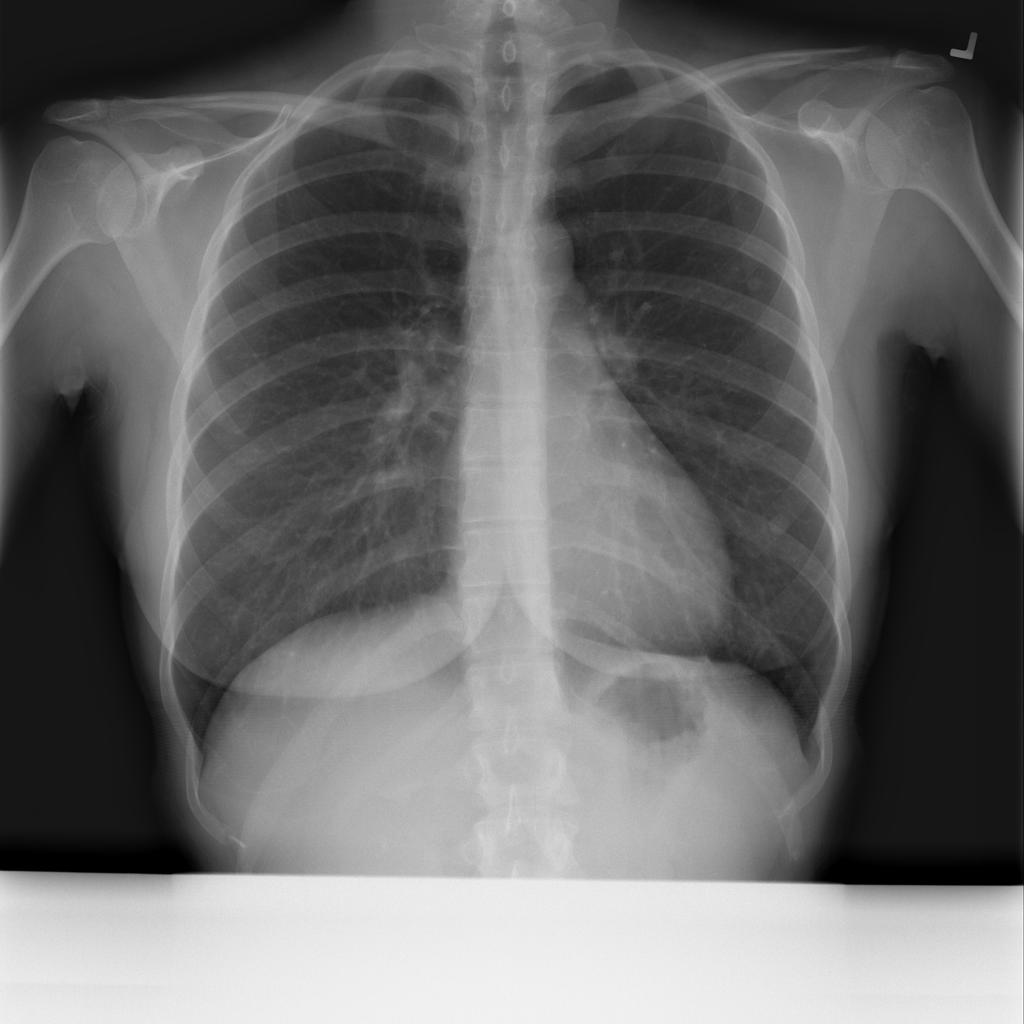nodule: (755, 500, 807, 551), (731, 258, 779, 309)
